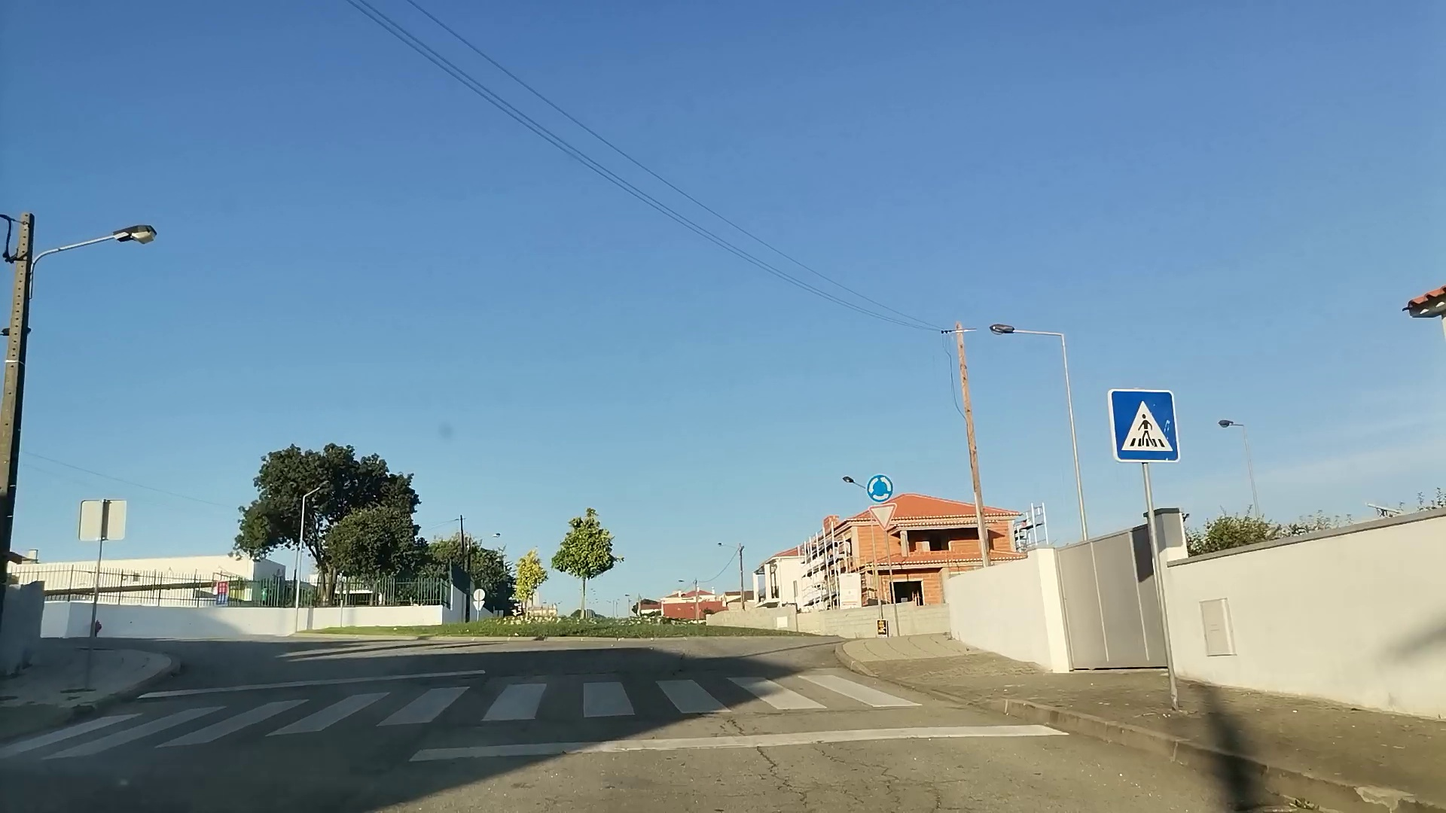Stairs: (18, 670, 923, 755)
